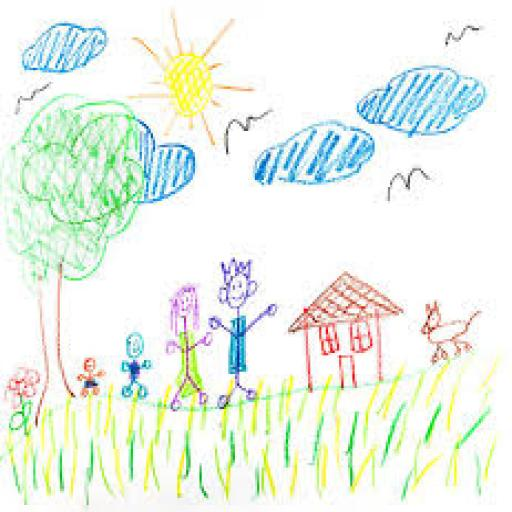person: (209, 256, 282, 418), (163, 278, 218, 416), (113, 328, 156, 416), (71, 352, 107, 416)
